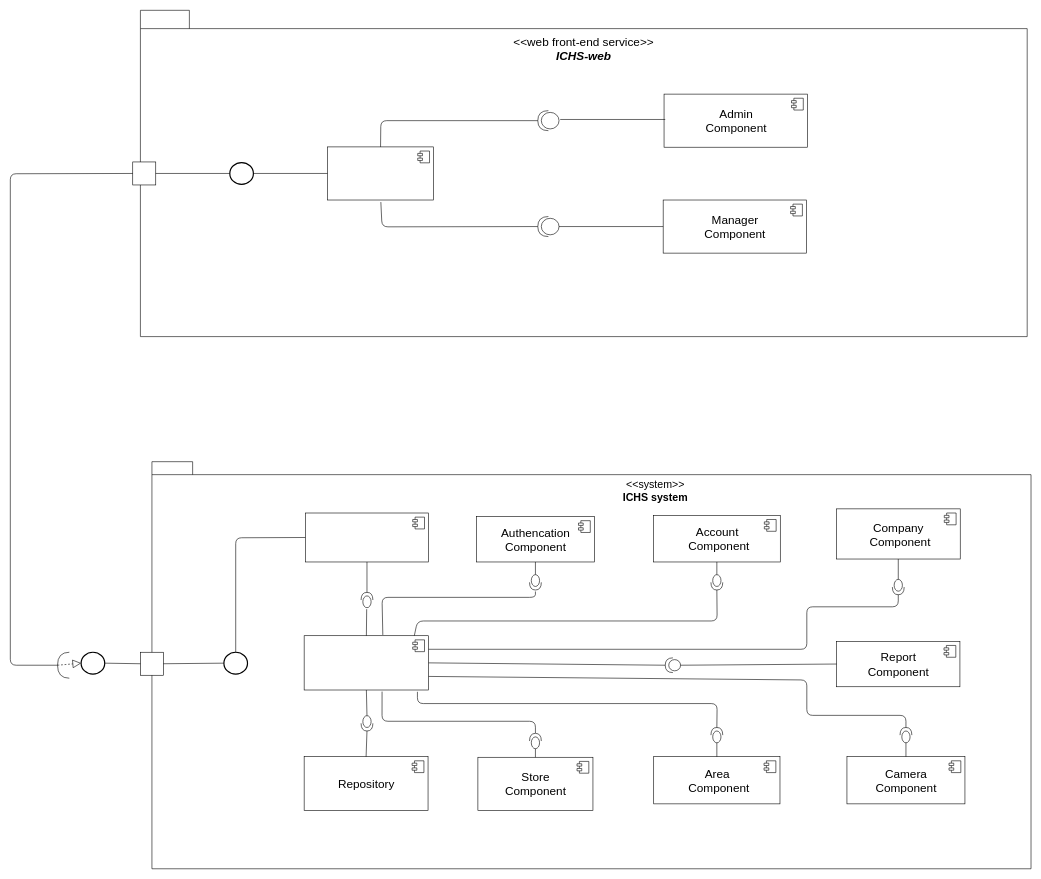
This 1041x879 diagram has some shape labels left out. The shapes that lost their labels are listed below. From the top down, each one's centre as x and y in pixels, then its label:
At (x=380, y=173): "Router".
At (x=367, y=537): "Controller".
At (x=366, y=662): "Bussiness Service".
